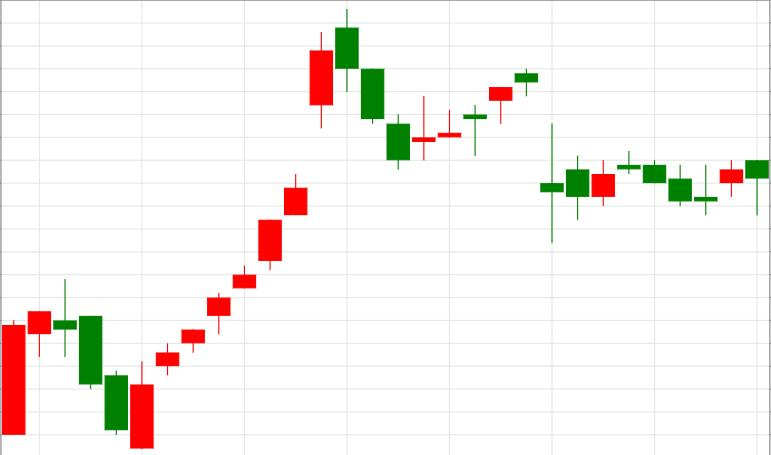three_black_crows_fall: (130, 10, 409, 448)
